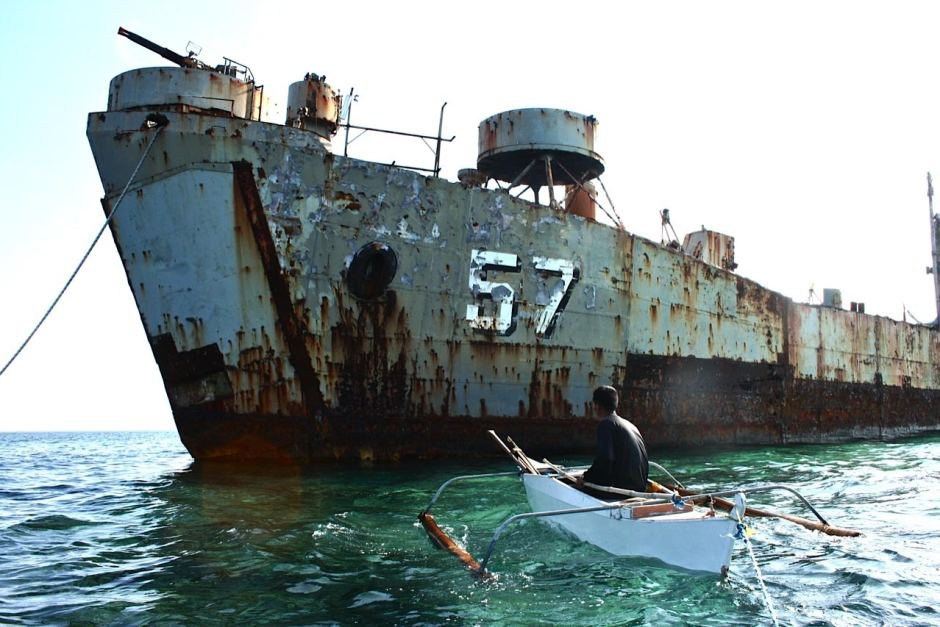rust: (234, 165, 336, 418), (645, 357, 896, 431), (355, 319, 423, 428)
